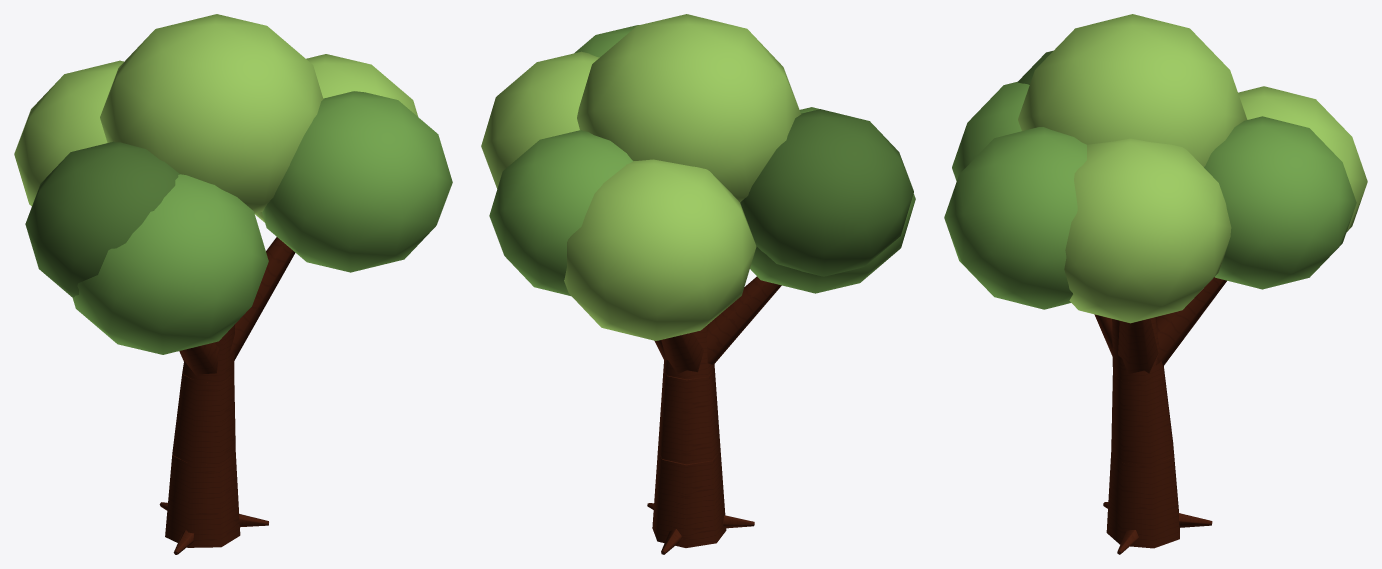
File: cloud-oak.glb
3 views of the same model, side by side, from view 1: azimuth 30°, elevation 25°; view 2: azimuth 150°, elevation 25°; view 3: azimuth 270°, elevation 25° (orthographic).
Parts seen in each view (by area): view 1: Merged_foliage, Merged_foliage-light, Merged_bark, Merged_foliage-deep; view 2: Merged_foliage-light, Merged_foliage-deep, Merged_foliage, Merged_bark; view 3: Merged_foliage-light, Merged_foliage, Merged_bark.
Part boxes in pixels (x1,y1,x2,y2): Merged_foliage: (72, 91, 452, 354); Merged_foliage-light: (14, 14, 418, 222); Merged_bark: (159, 237, 295, 554); Merged_foliage-deep: (25, 141, 179, 297); Merged_foliage-light: (481, 14, 801, 340); Merged_foliage-deep: (740, 109, 913, 276); Merged_foliage: (489, 25, 915, 295); Merged_bark: (647, 276, 781, 554); Merged_foliage-light: (1018, 14, 1367, 323); Merged_foliage: (944, 81, 1356, 309); Merged_bark: (1094, 277, 1226, 554).
Size of what is drawn, in the model's own units: 3.71 by 4.59 by 3.45.
4 materials, 1 textured.
